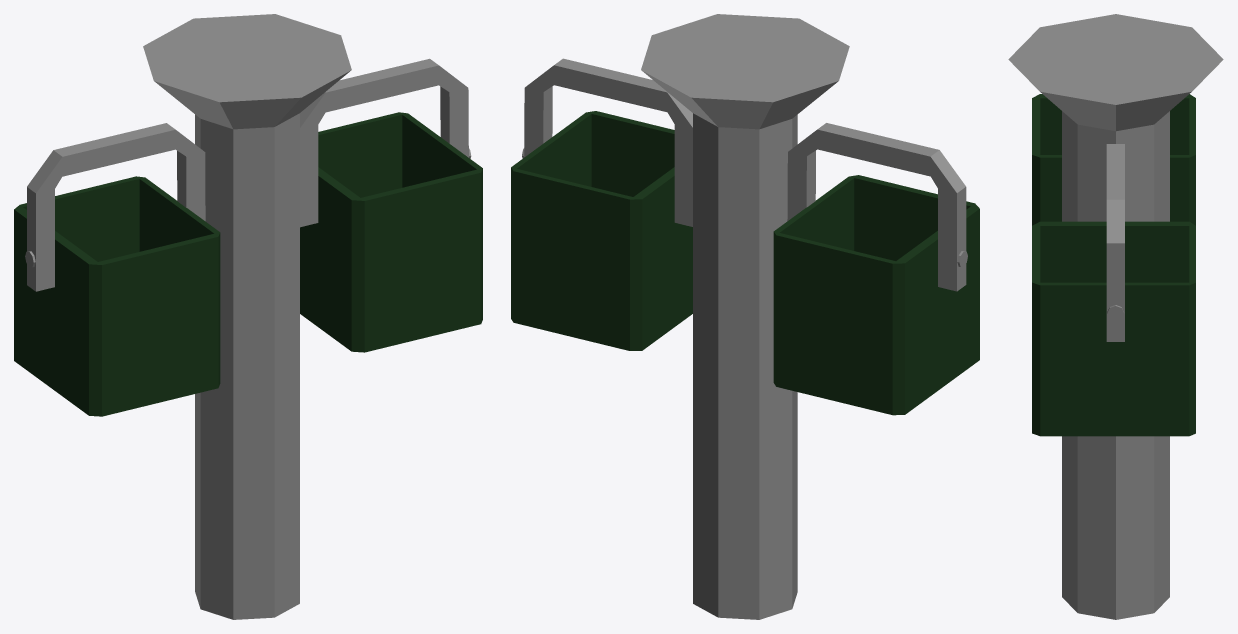
Rendered from lixeira.fbx.
3 renders of one model, left to right at view 1: azimuth 30°, elevation 25°; view 2: azimuth 150°, elevation 25°; view 3: azimuth 270°, elevation 25°, orthographic.
Visible parts, largest first — view 1: lixeira; view 2: lixeira; view 3: lixeira.
Part boxes in pixels (box(x1,y1,x2,y2)): lixeira: box(14, 14, 482, 619); lixeira: box(511, 14, 979, 619); lixeira: box(1008, 14, 1223, 619).
Size of the model in its own units: 76.62 by 90.3 by 32.79.
